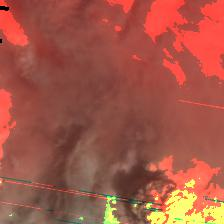landslides: (162, 153, 191, 170), (161, 214, 192, 224), (165, 152, 182, 167), (199, 195, 220, 204), (164, 209, 183, 217), (52, 58, 59, 79), (10, 91, 22, 102), (191, 75, 199, 89)
